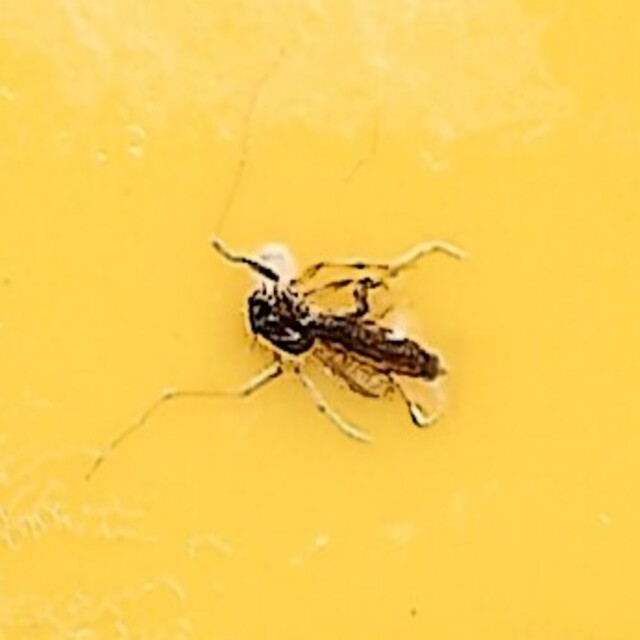Nematocera: (185, 217, 455, 423)
